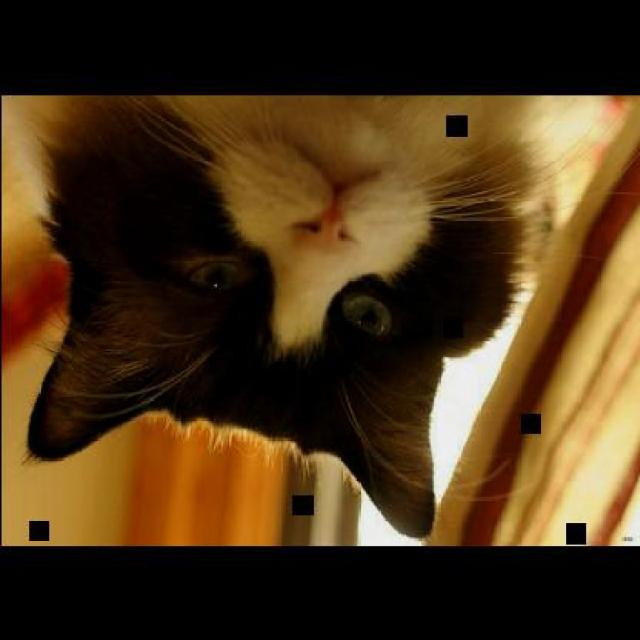unauthorized: (3, 92, 634, 538)
